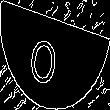O_N: (39, 25, 71, 85)
